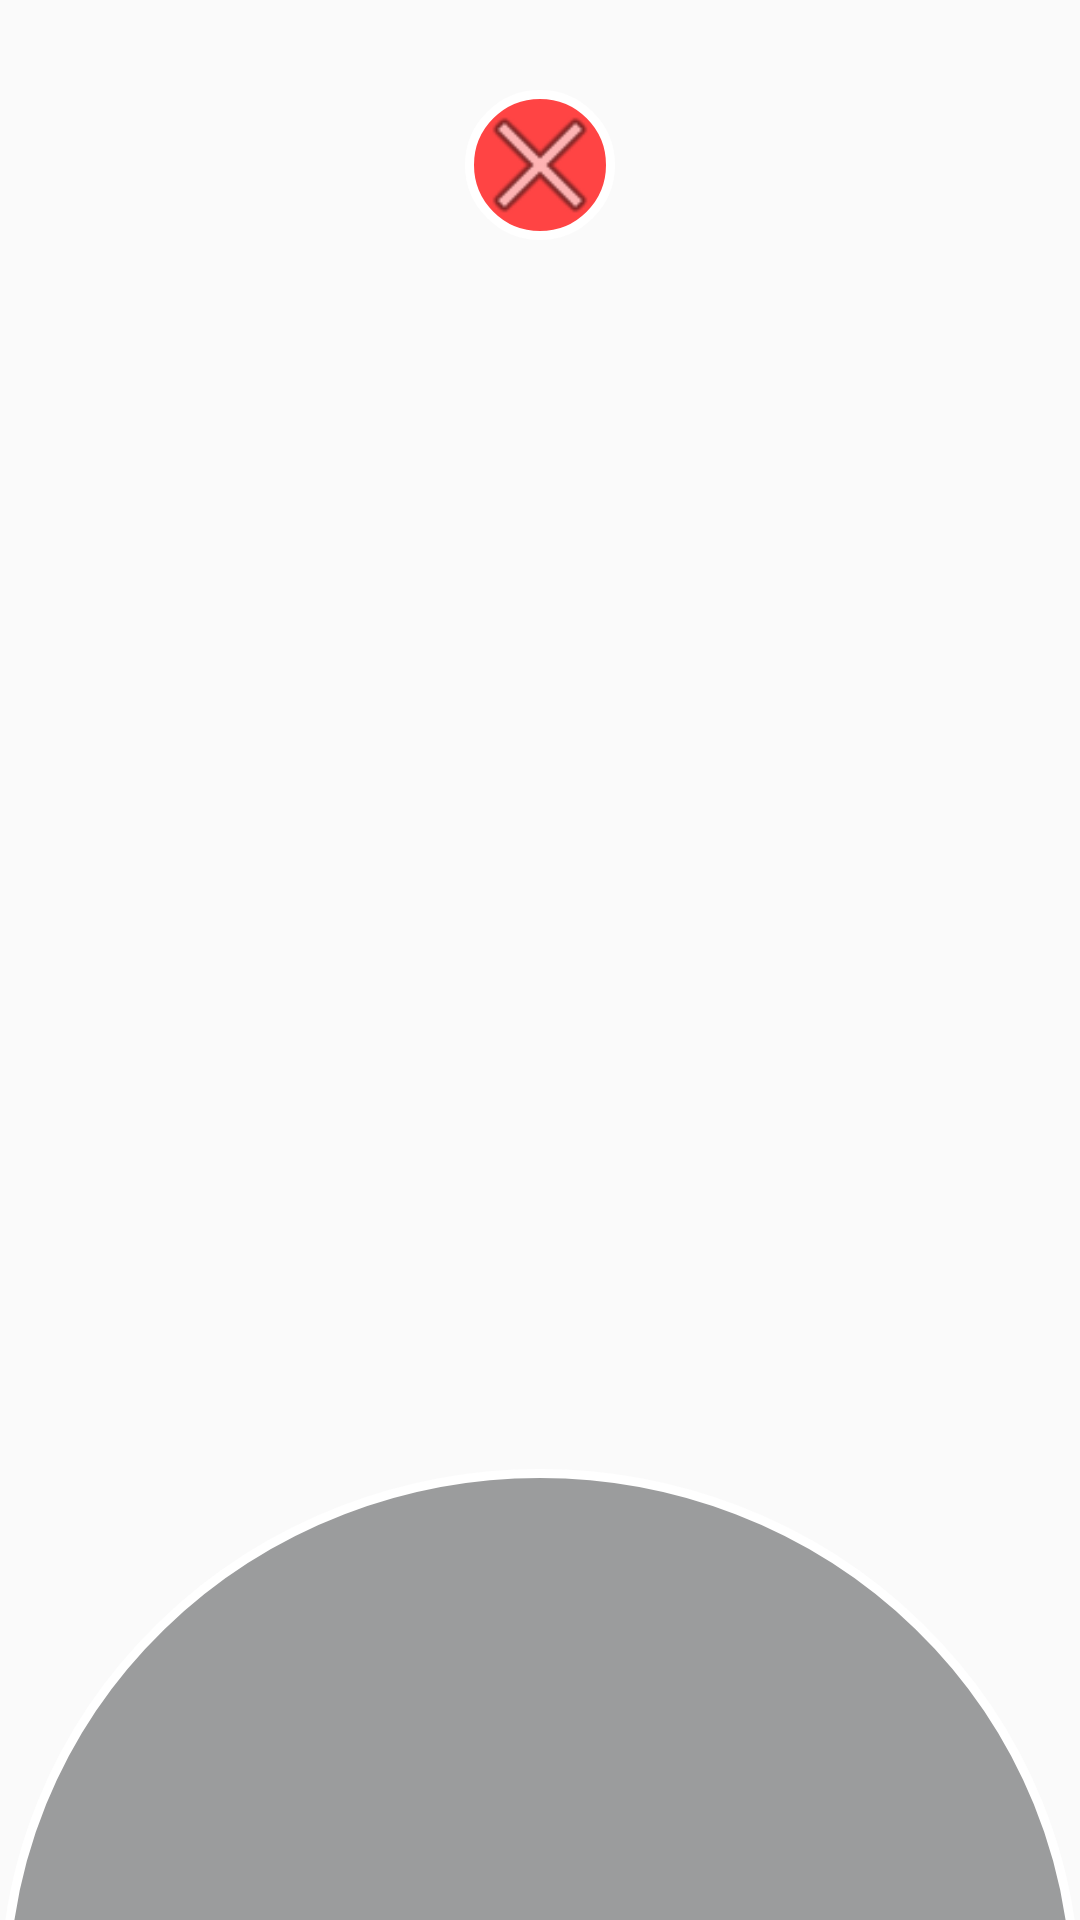

Named icons in this screenshot (1080px×1920px) and their bounding boxes, [x1,y1,x2,y2]:
close clear cancel: [474,99,606,231]
